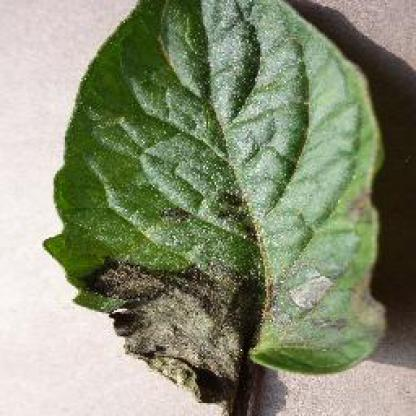bad leaf: (75, 4, 392, 400)
